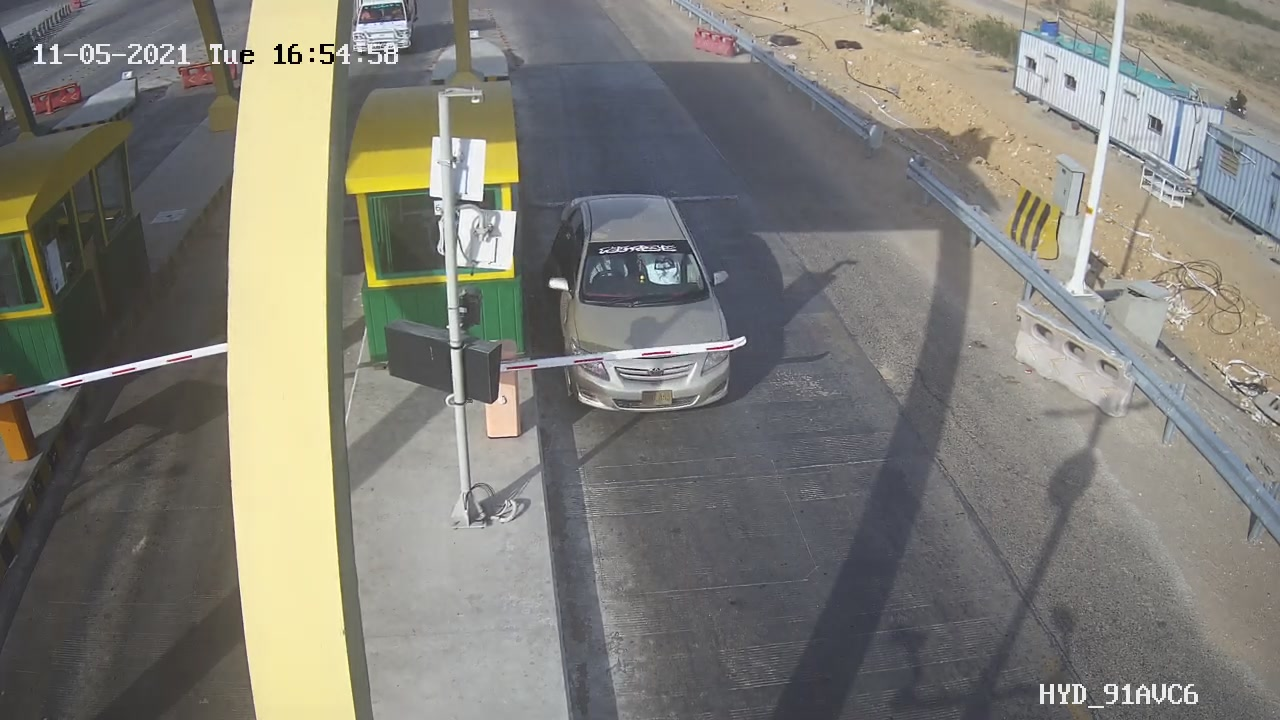F1: (527, 177, 759, 427)
